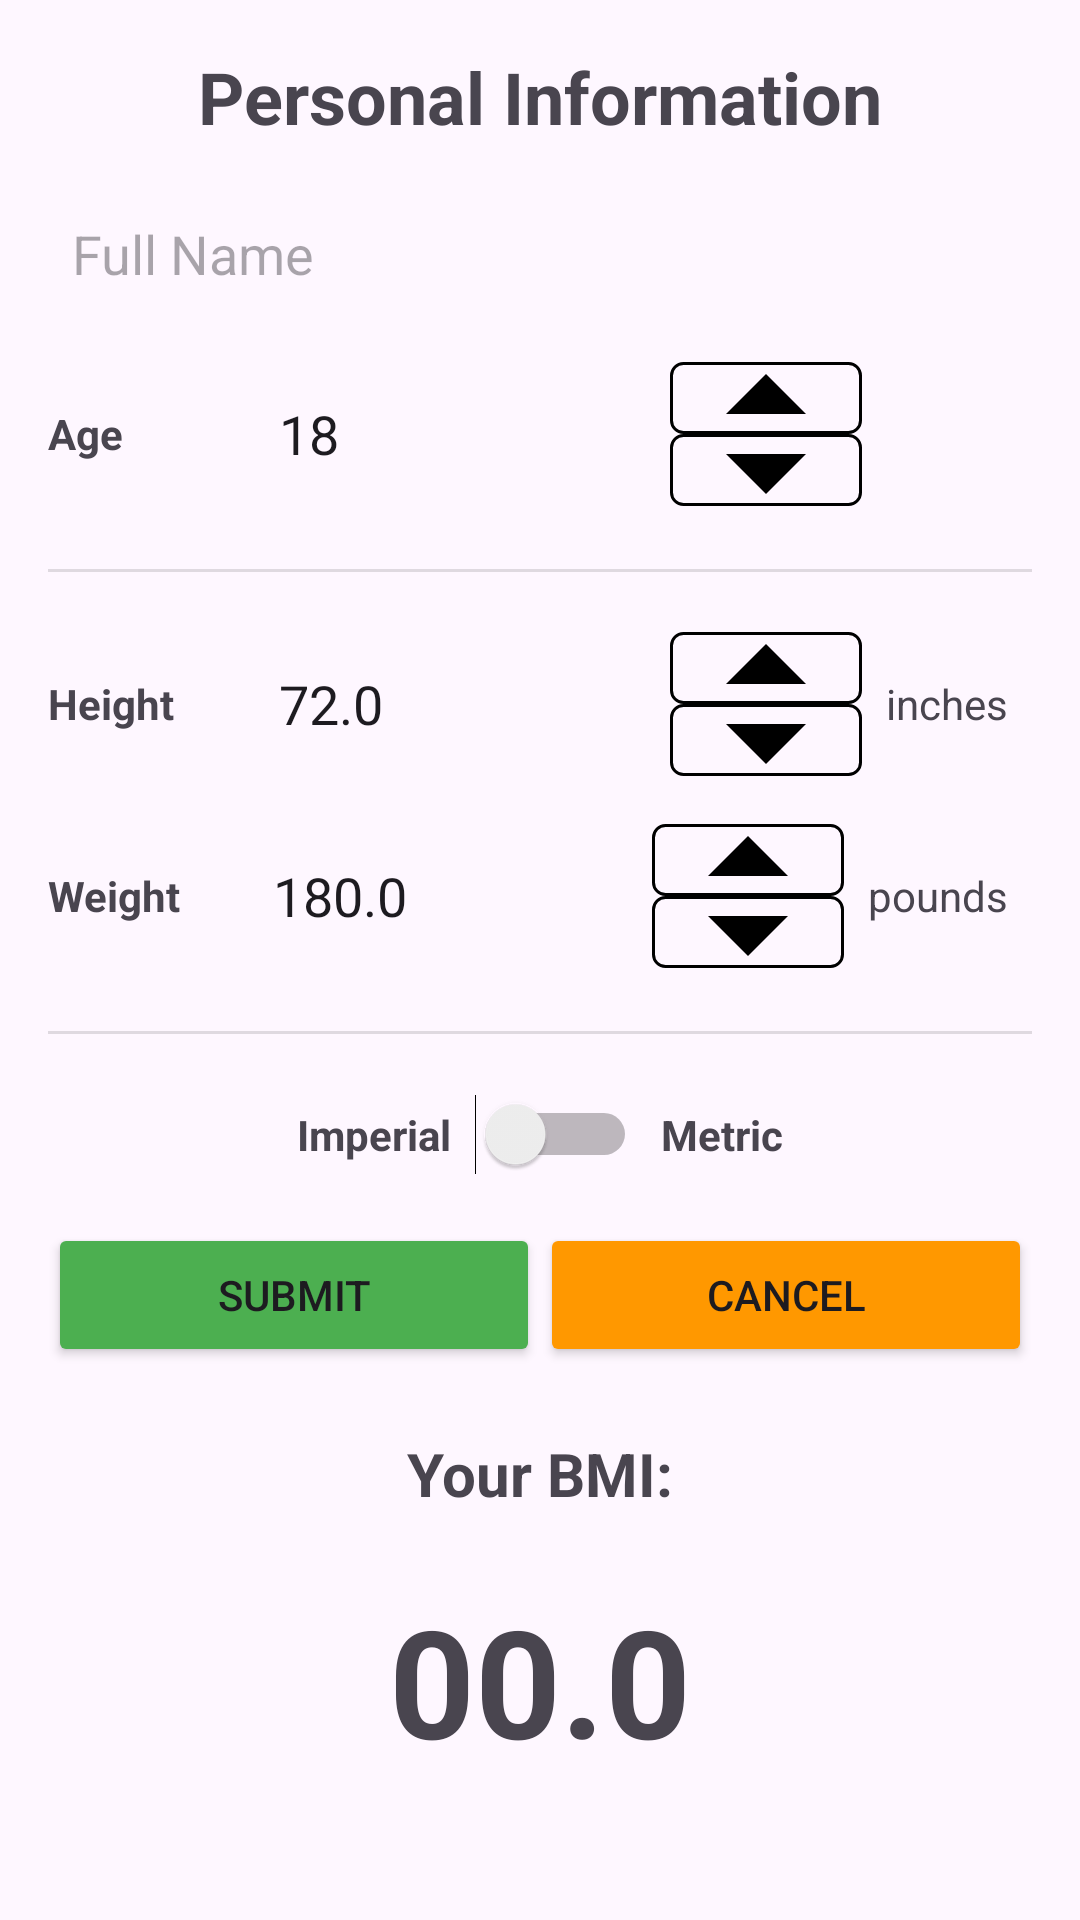

Named icons in this screenshot (1080×1920) and their centers, (x,y):
Decrement Age: (766,474)
Decrement Height: (766,744)
Increment Age: (766,394)
Increment Height: (766,664)
